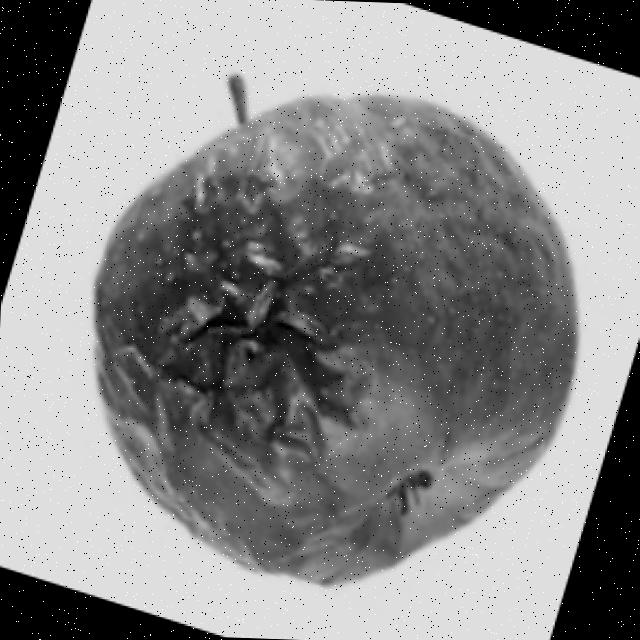Rotten: (77, 71, 590, 598)
